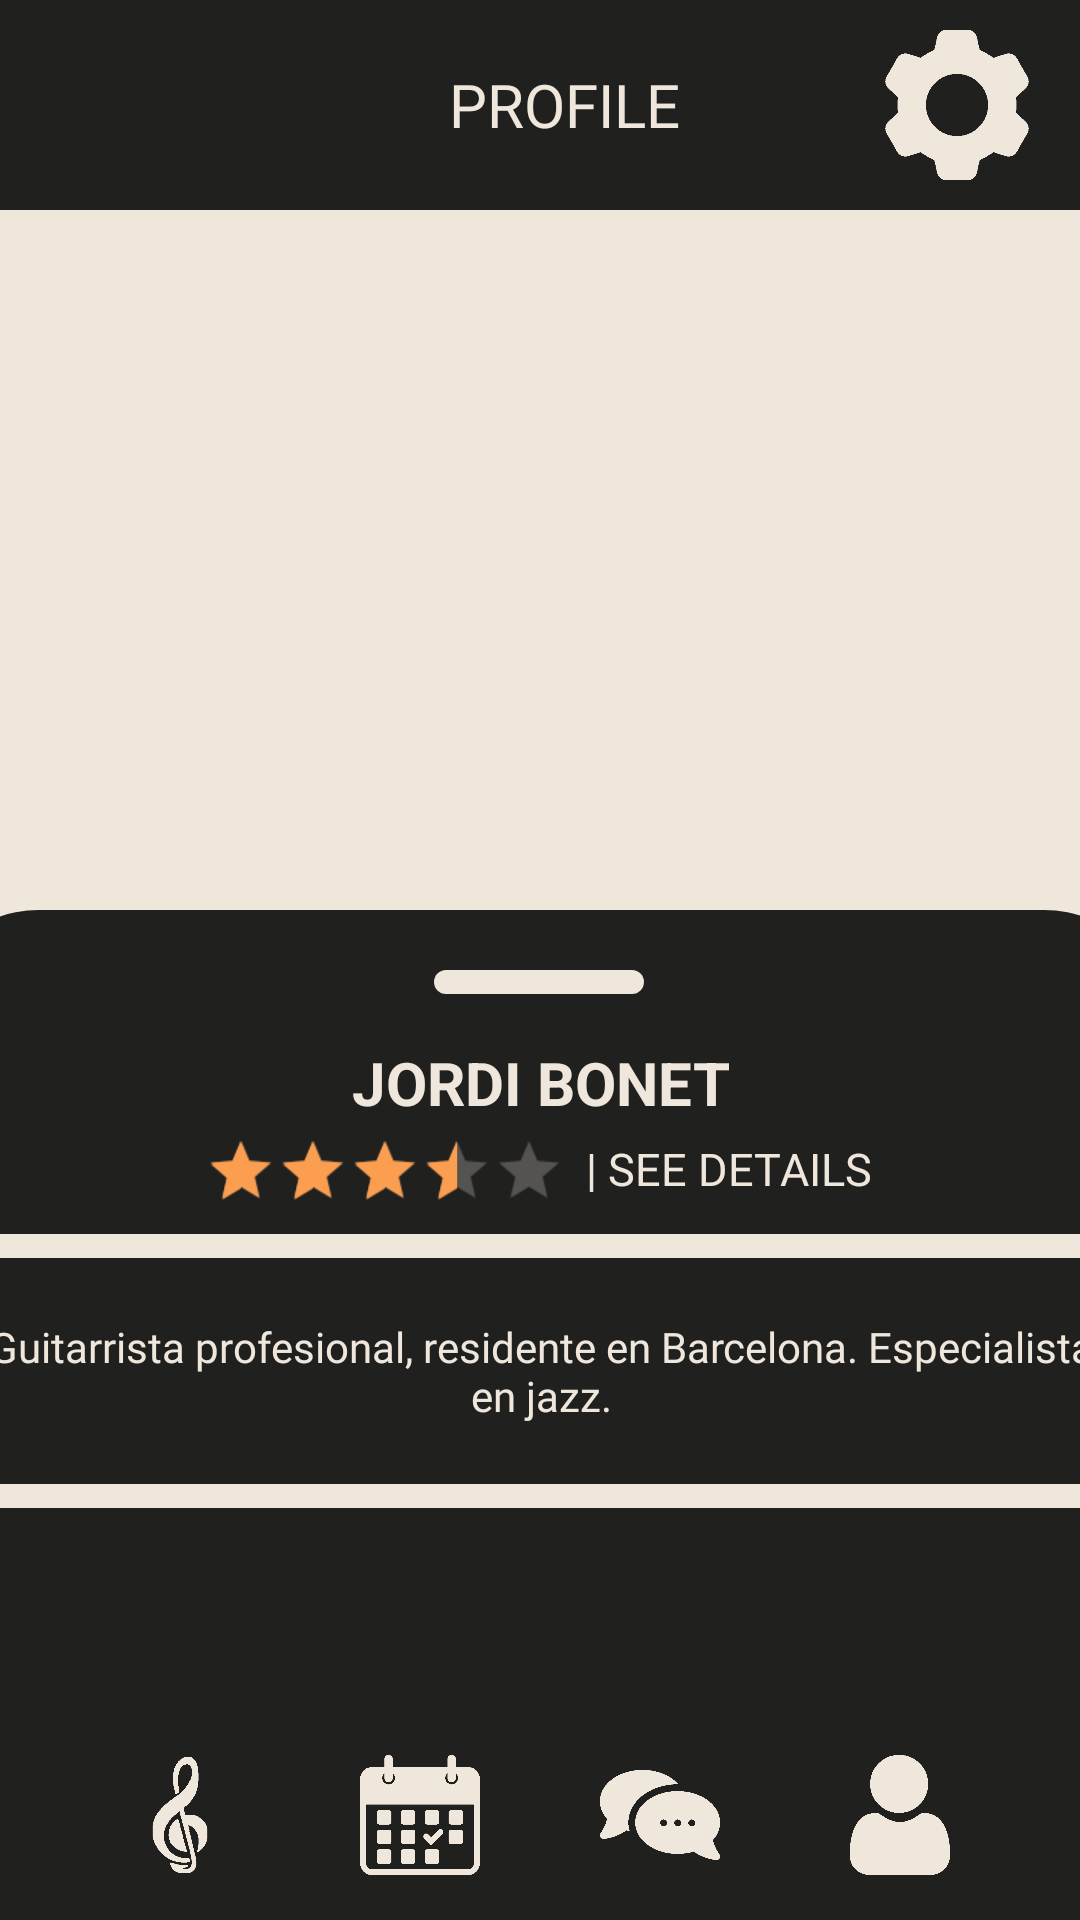

Named icons in this screenshot (1080 × 1920) and their bounding boxes, [left=x1, top=y1, right=x2, bottom=y2]:
chat: [left=600, top=1770, right=720, bottom=1860]
musician: [left=152, top=1757, right=208, bottom=1873]
settings: [left=885, top=30, right=1029, bottom=180]
user: [left=850, top=1755, right=950, bottom=1875]
